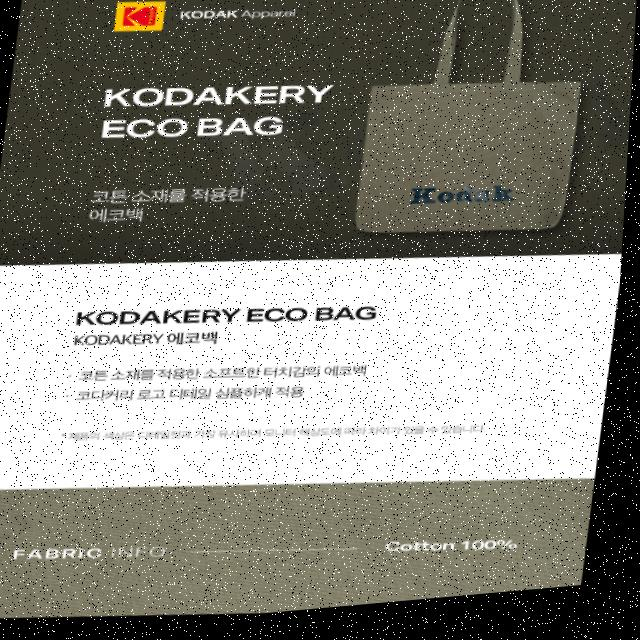ecobag: (335, 0, 608, 260)
